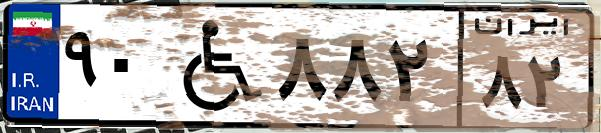0: (110, 28, 158, 98)
2: (385, 28, 445, 110), (525, 38, 570, 115)
8: (270, 28, 330, 110), (330, 28, 385, 110), (475, 38, 525, 113)
9: (57, 26, 110, 100)
ژ (معلولین و جانبازان): (158, 12, 270, 120)
